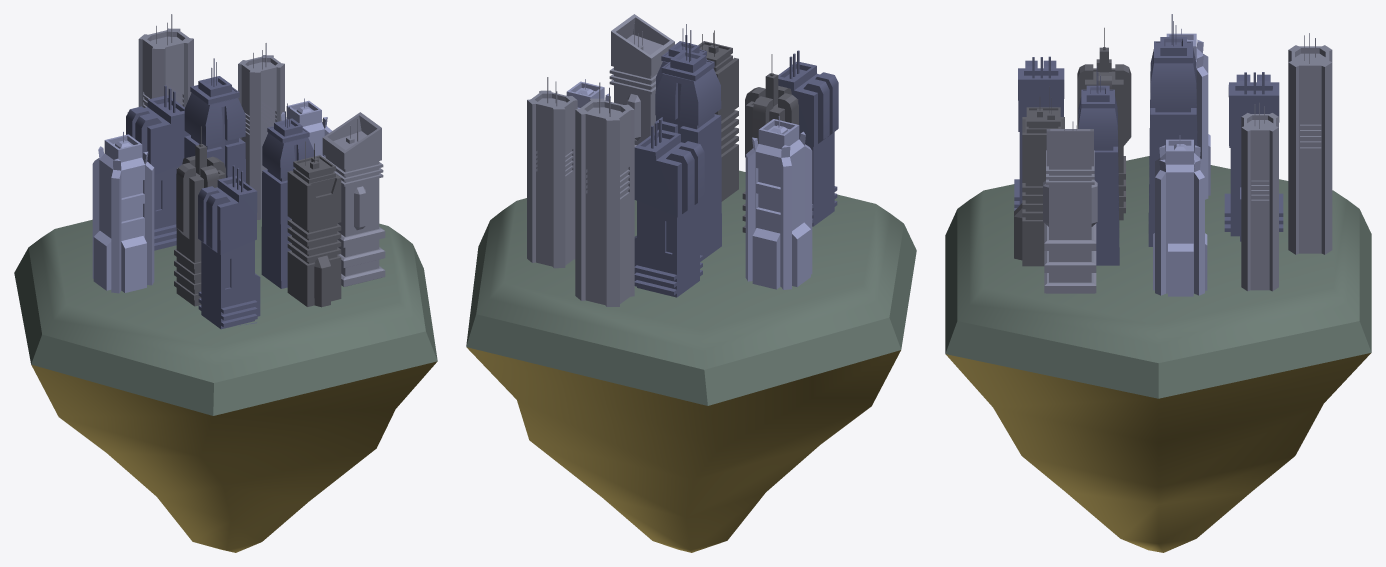
File: City_V3.fbx
The picture shows the model from 3 angles, left to right: view 1: azimuth 30°, elevation 25°; view 2: azimuth 150°, elevation 25°; view 3: azimuth 270°, elevation 25°; orthographic projection. The views are drawn at different scales.
Visible parts, largest first — view 1: polySurface155; view 2: polySurface155; view 3: polySurface155.
Part boxes in pixels (left/top/right/bottom): polySurface155: left=14, top=14, right=437, bottom=552; polySurface155: left=466, top=14, right=916, bottom=552; polySurface155: left=945, top=14, right=1371, bottom=552.
Bounding box in the file's own units: 11.53 × 13.71 × 9.99.
